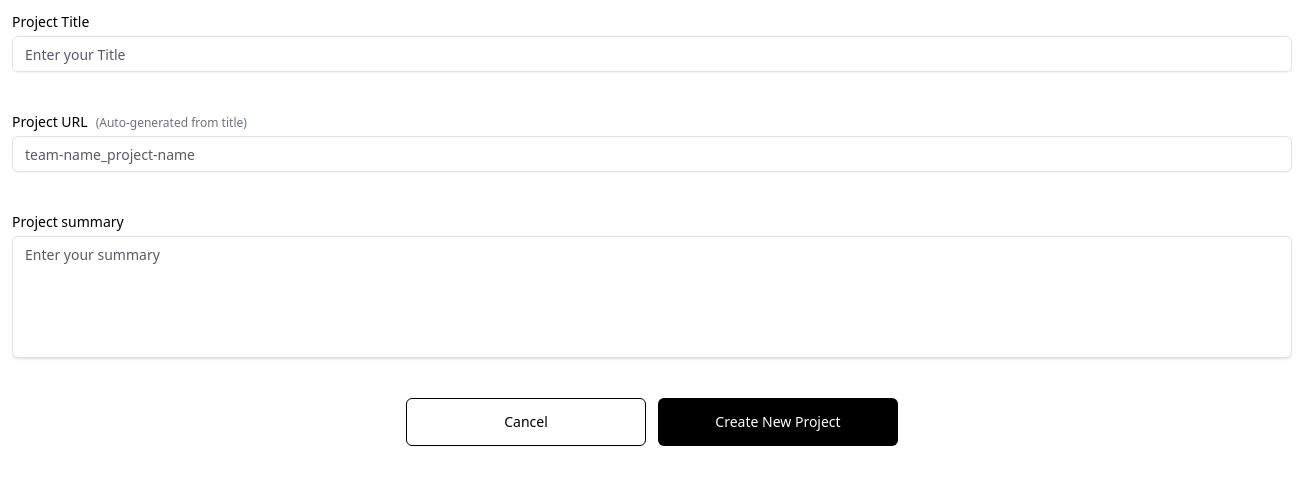
Test case: ProjectForm - 통합 테스트 › 유효성 검증 › 잘못된 URL 형식이면 에러 메시지가 표시된다
# 잘못된 형식의 URL 입력
Step 1. Type "Test" into the field with placeholder "Enter your Title" → (652, 54), box [12,36,1292,72]
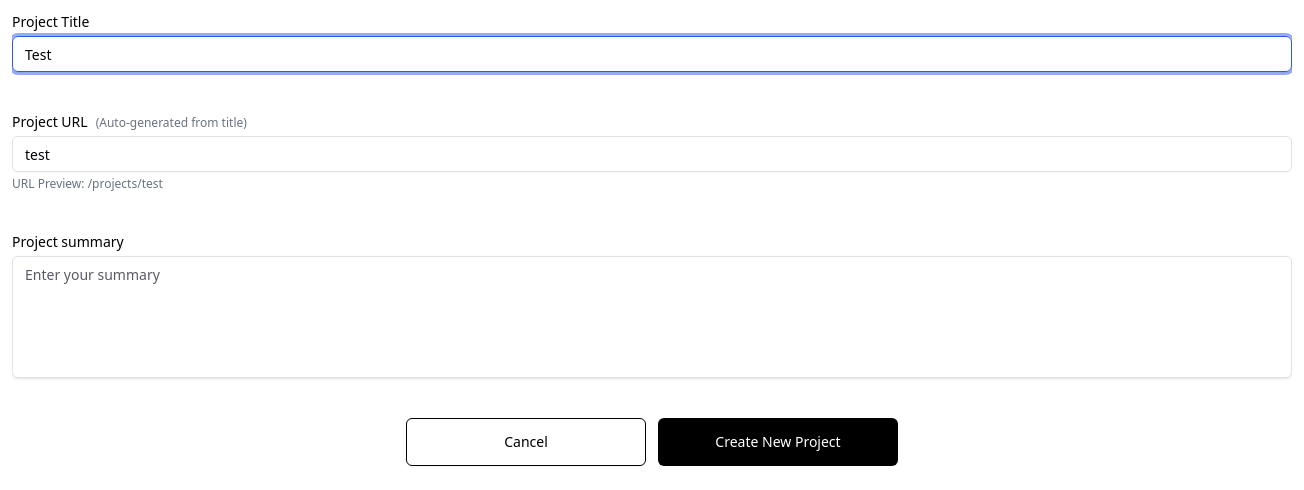
Step 2. Type "invalid url with spaces!" into the field with placeholder "team-name_project-name" below "Project URL" → (652, 154), box [12,136,1292,172]
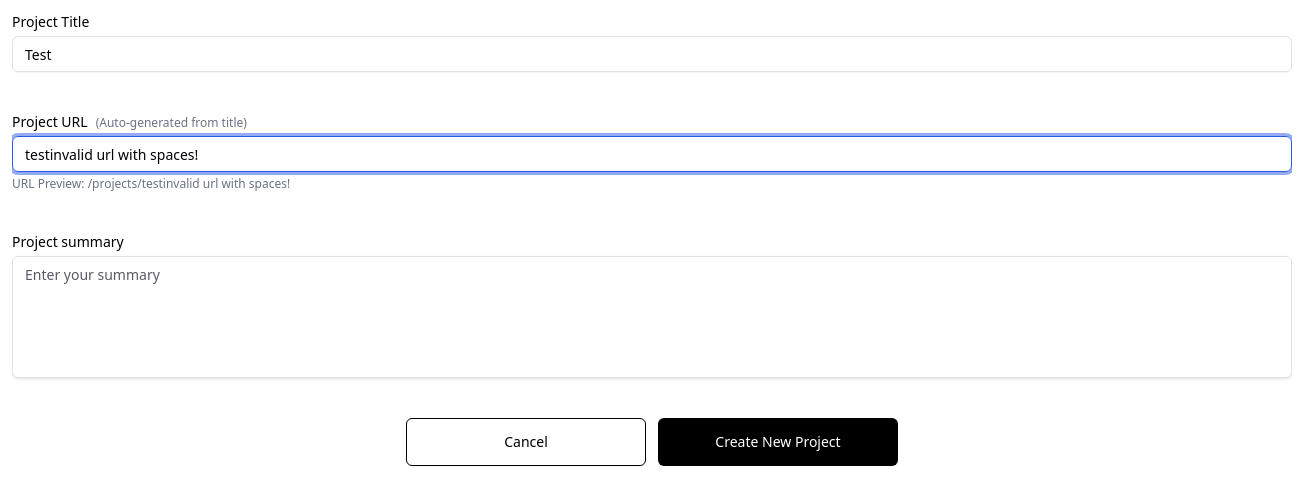
Step 3. Type "Summary" into the text box with placeholder "Enter your summary" → (652, 317), box [12,256,1292,378]
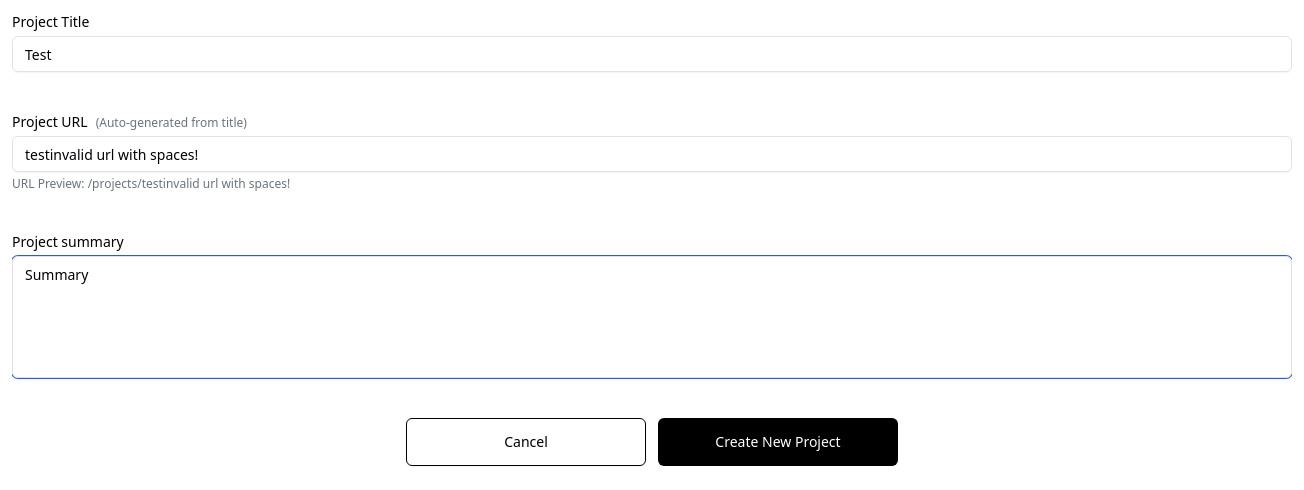
Step 4. Click the button "Create New Project" → (778, 442), box [658,418,898,466]
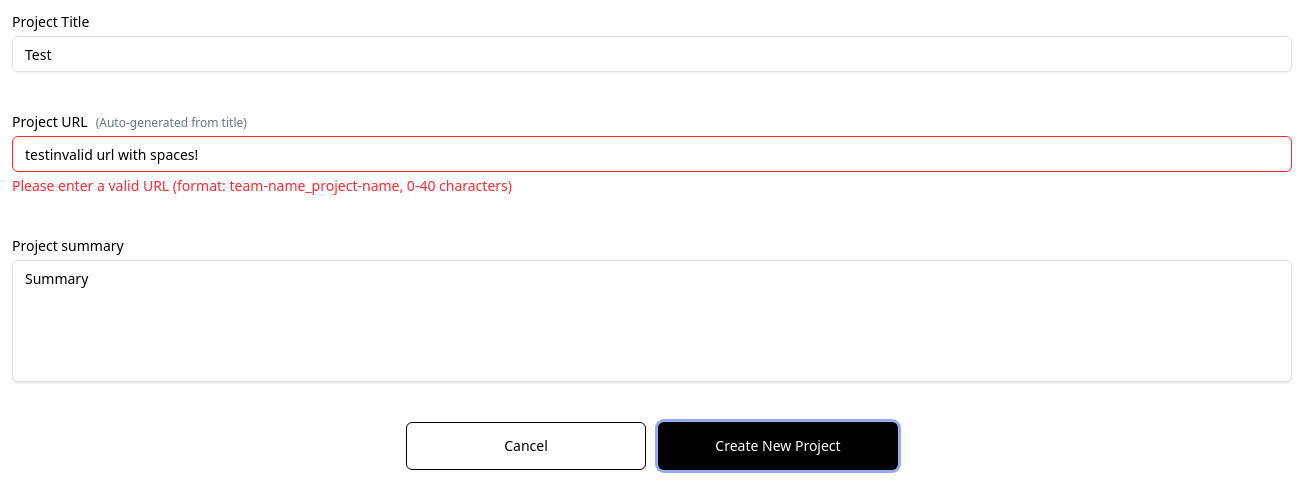
expect the text "Please enter a valid URL (format: team-name_project-name" is shown: met, box [12,176,512,195]
